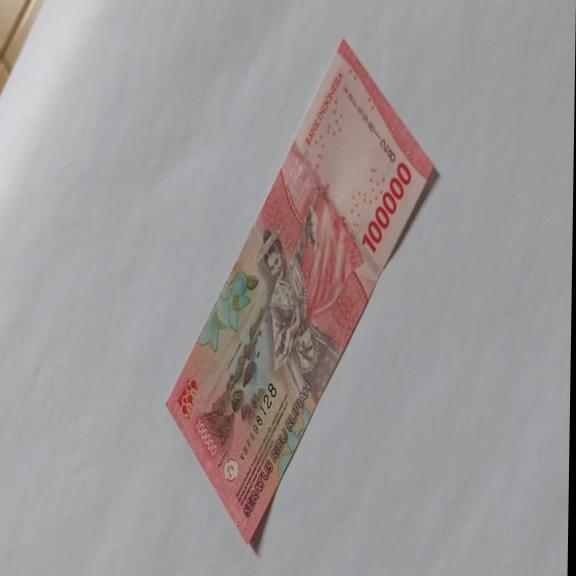Kertas: (360, 161, 412, 255)
